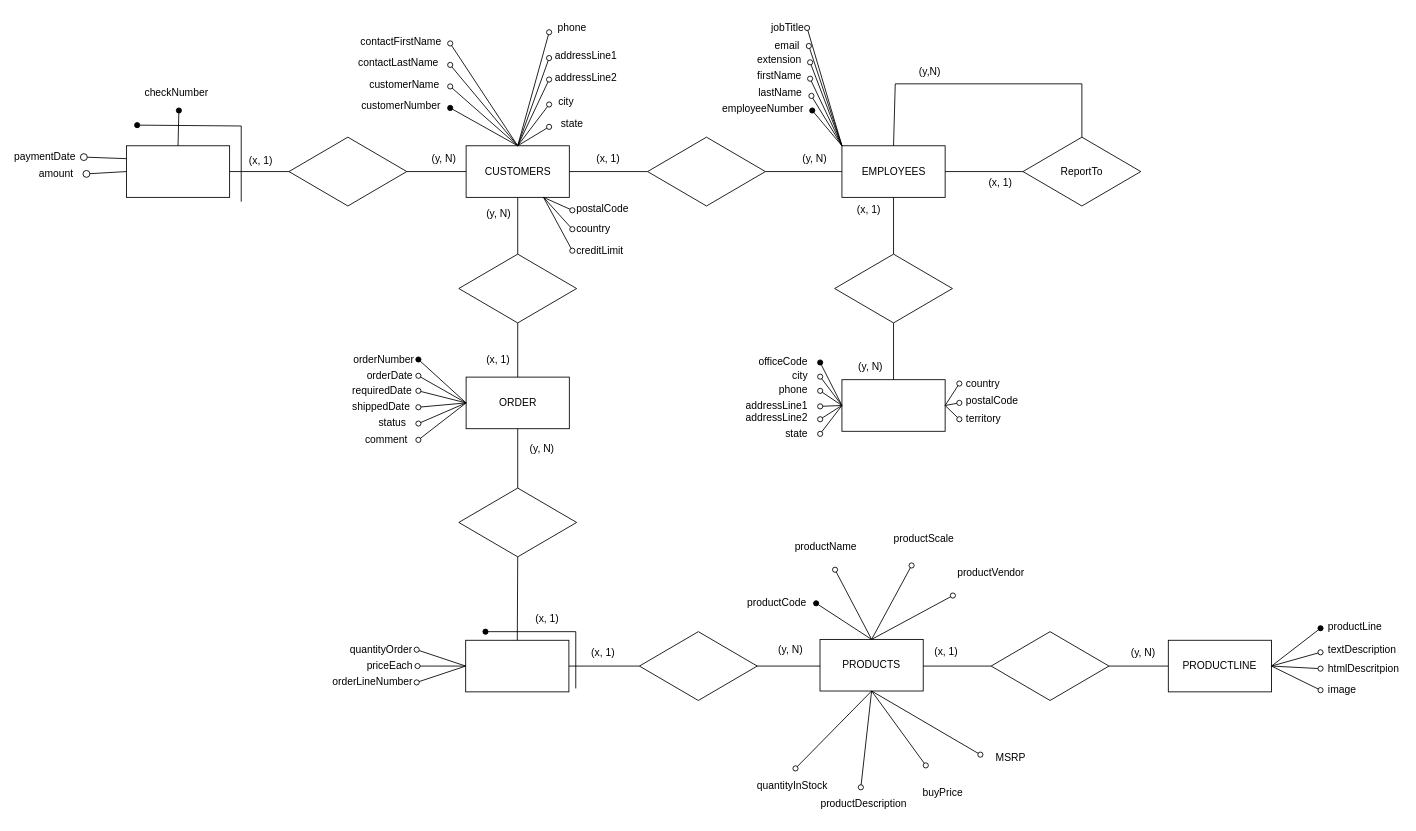
This 1416x831 diagram has some shape labels left out. Each missing label, with the box of its shape:
OFFICES: (841, 379, 945, 431)
ORDERDETAILS: (465, 639, 569, 692)
PAYMENTS: (126, 145, 230, 197)
